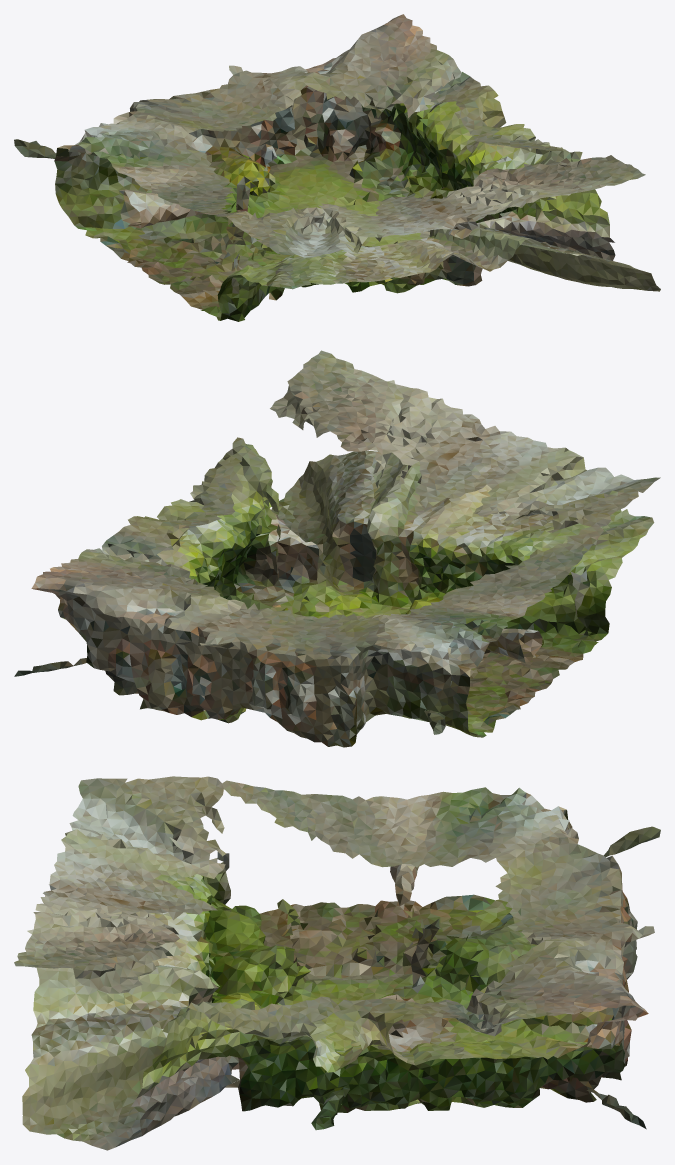
Rendered from gardenvase_small5.glb.
3 renders of one model, top to bottom at view 1: azimuth 30°, elevation 25°; view 2: azimuth 150°, elevation 25°; view 3: azimuth 270°, elevation 25°, orthographic. The views are drawn at different scales.
Visible parts, largest first — view 1: geometry_0; view 2: geometry_0; view 3: geometry_0.
Part boxes in pixels (bbox=[...]): geometry_0: bbox=[14, 14, 660, 321]; geometry_0: bbox=[14, 350, 660, 747]; geometry_0: bbox=[14, 776, 660, 1150].
Size of the model in its own units: 6.84 by 2.33 by 7.93.
